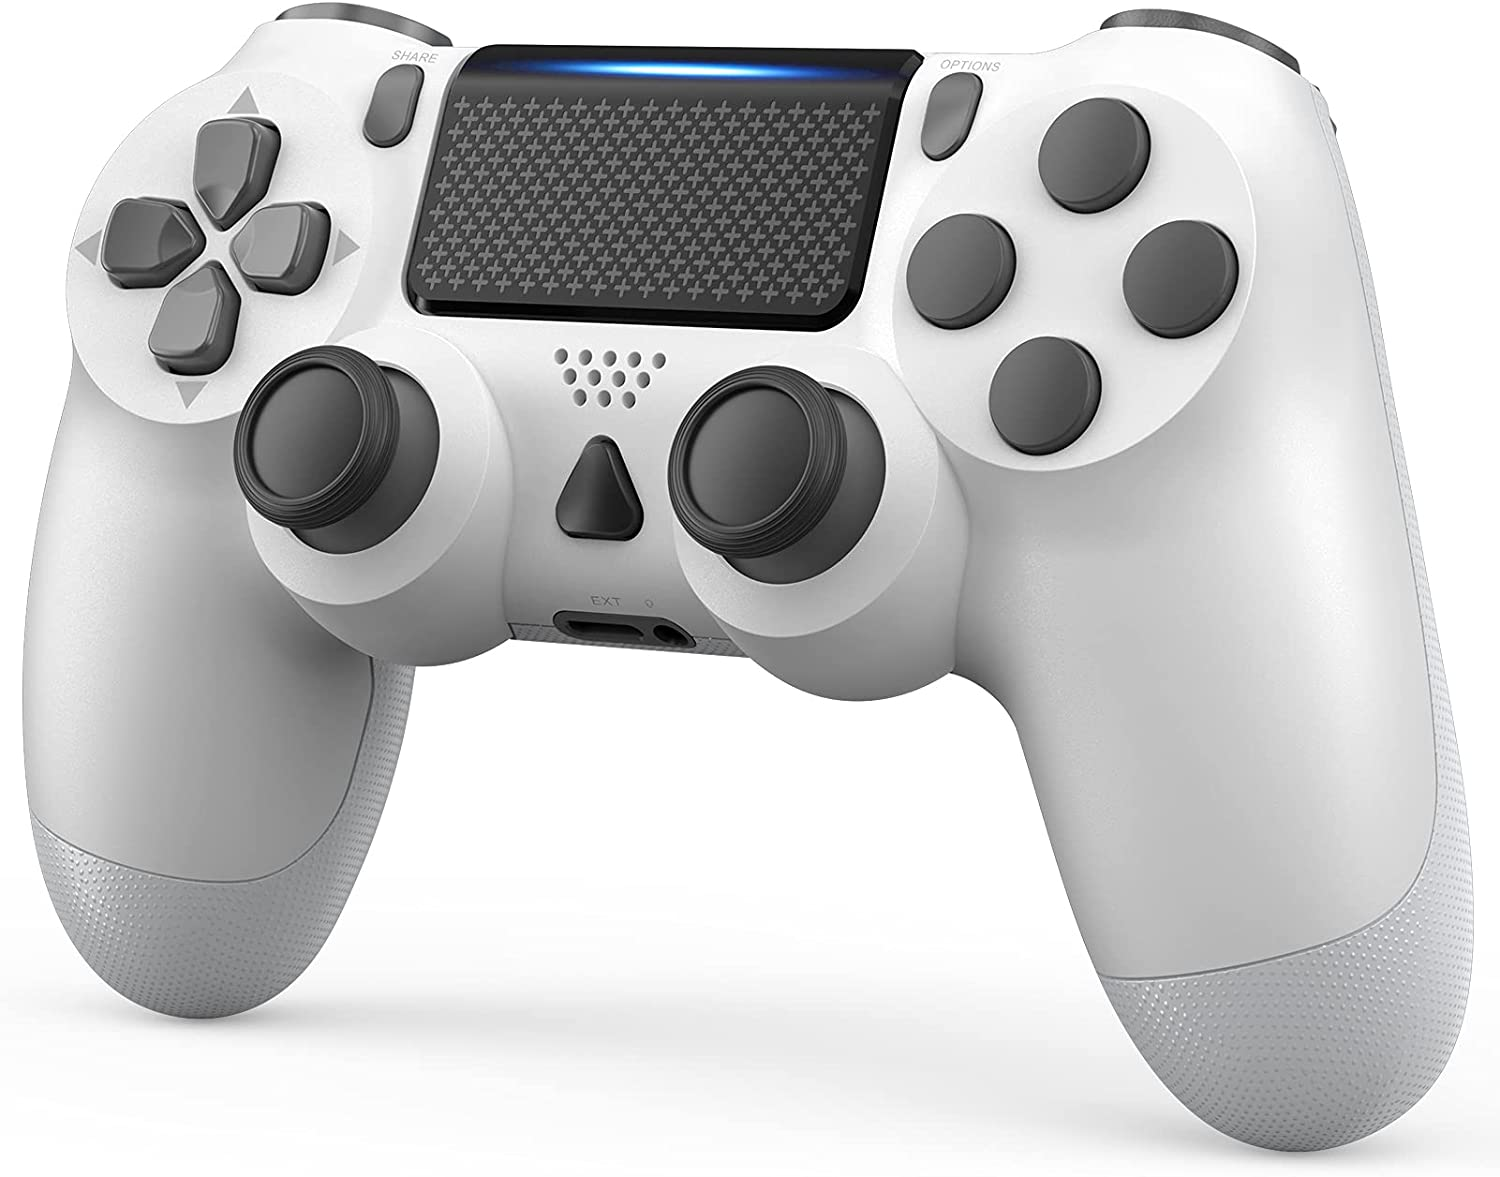controller: (22, 1, 1474, 1149)
